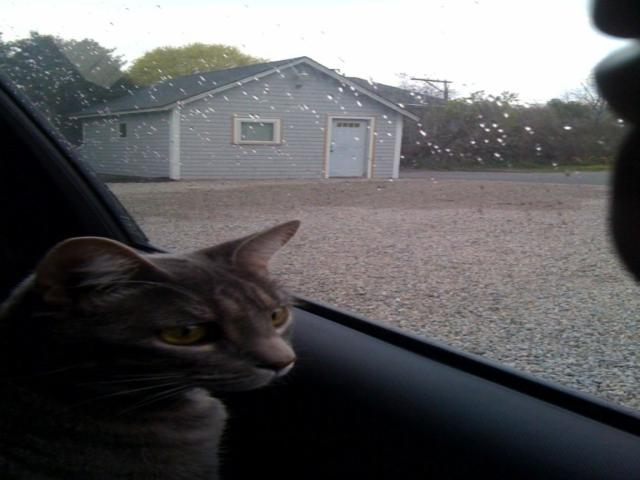Cat: (0, 219, 305, 479)
